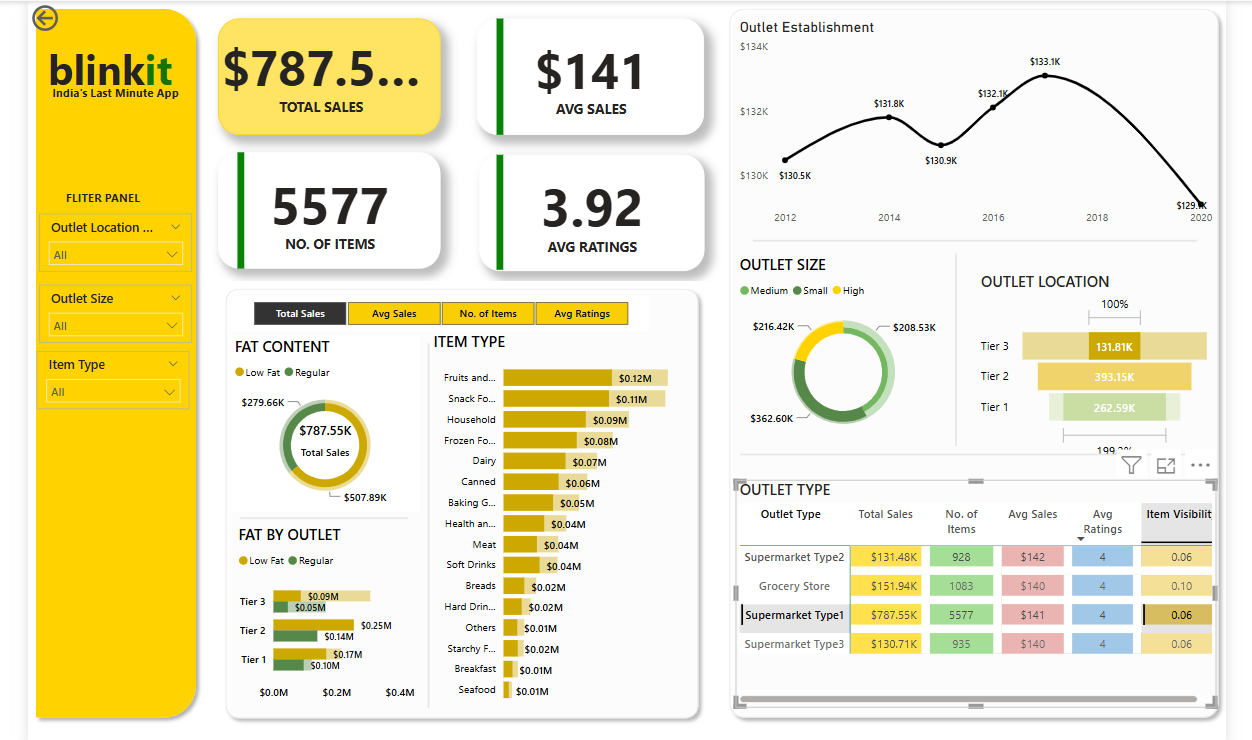

Layout of this report page (visuals, bound fields, positions):
{"tool":"powerbi","page":{"name":"Page 1","canvas":[1400,872],"ordinal":0},"visuals":[{"type":"shape","box":[0,0,205.4,846.6],"z":0},{"type":"textbox","box":[0,40.5,191.9,84],"z":1000},{"type":"textbox","box":[13.5,93,178.5,31.5],"z":2000},{"type":"card","title":"Total Sales","fields":{"Values":["BlinkIT Grocery Data.Total Sales"]},"box":[221.6,20.7,260,135.9],"z":3000},{"type":"actionButton","box":[0,0,100,40],"z":4000},{"type":"card","title":"Avg Sales","fields":{"Values":["BlinkIT Grocery Data.Avg Sales"]},"box":[524.5,20.7,265.9,135.9],"z":5000},{"type":"card","title":"Avg Ratings","fields":{"Values":["BlinkIT Grocery Data.Avg Ratings"]},"box":[527.4,180.2,263,135.9],"z":6000},{"type":"textbox","box":[500,400,161,375],"z":7000},{"type":"card","title":"No. of Items","fields":{"Values":["BlinkIT Grocery Data.No. of Items"]},"box":[221.6,177.3,260,135.9],"z":8000},{"type":"shape","box":[542.2,20.7,19.2,135.9],"z":9000},{"type":"shape","box":[534.8,180.2,34,135.9],"z":10000},{"type":"shape","box":[214.2,177.3,68,135.9],"z":11000},{"type":"shape","box":[221.6,326.5,570.3,520.1],"z":12000},{"type":"donutChart","title":"FAT CONTENT","fields":{"Y":["BlinkIT Grocery Data.Total Sales"],"Category":["BlinkIT Grocery Data.Item Fat Content"]},"box":[236.4,391.5,221.6,205.4],"z":13000},{"type":"slicer","fields":{"Values":["Metrics.Metrics"]},"box":[238.4,344.9,487.4,40.5],"z":14000},{"type":"card","title":"Total Sales","fields":{"Values":["BlinkIT Grocery Data.Total Sales"]},"box":[302.9,483.1,90.1,57.6],"z":15000},{"type":"clusteredBarChart","title":"FAT BY OUTLET","fields":{"Y":["BlinkIT Grocery Data.Total Sales"],"Category":["BlinkIT Grocery Data.Outlet Location Type"],"Series":["BlinkIT Grocery Data.Item Fat Content"]},"box":[240.8,611.7,221.6,214.2],"z":16000},{"type":"shape","box":[248.9,587.8,196.4,34.5],"z":17000},{"type":"shape","box":[442.4,400.4,51,425.9],"z":18000},{"type":"barChart","title":"ITEM TYPE","fields":{"Y":["BlinkIT Grocery Data.Total Sales"],"Category":["BlinkIT Grocery Data.Item Type"]},"box":[469.4,385.4,307.4,443.9],"z":19000},{"type":"shape","box":[811.1,0,589.5,846.6],"z":20000},{"type":"lineChart","title":"Outlet Establishment","fields":{"Y":["BlinkIT Grocery Data.Total Sales"],"Category":["BlinkIT Grocery Data.Outlet Establishment Year"]},"box":[827.4,20.7,561.4,251.2],"z":21000},{"type":"shape","box":[847.3,262.4,520.4,34.5],"z":22000},{"type":"donutChart","title":"OUTLET SIZE","fields":{"Category":["BlinkIT Grocery Data.Outlet Size"],"Y":["BlinkIT Grocery Data.Total Sales"]},"box":[827.4,297,252.6,224.6],"z":23000},{"type":"shape","box":[1058.7,295.4,51,224.9],"z":24000},{"type":"funnel","title":"OUTLET LOCATION","fields":{"Y":["Sum(BlinkIT Grocery Data.Sales)"],"Category":["BlinkIT Grocery Data.Outlet Location Type"]},"box":[1108.1,316.2,279.2,224.6],"z":25000},{"type":"shape","box":[832.3,512.9,535.4,34.5],"z":26000},{"type":"pivotTable","title":"OUTLET TYPE","fields":{"Rows":["BlinkIT Grocery Data.Outlet Type"],"Values":["BlinkIT Grocery Data.Total Sales","BlinkIT Grocery Data.No. of Items","BlinkIT Grocery Data.Avg Sales","BlinkIT Grocery Data.Avg Ratings","Avg(BlinkIT Grocery Data.Item Visibility)"]},"box":[827.4,559.9,561.4,265.9],"z":27000},{"type":"slicer","fields":{"Values":["BlinkIT Grocery Data.Outlet Location Type"]},"box":[13.3,248.2,178.8,68],"z":28000},{"type":"slicer","fields":{"Values":["BlinkIT Grocery Data.Outlet Size"]},"box":[13.3,330.9,178.8,68],"z":29000},{"type":"slicer","fields":{"Values":["BlinkIT Grocery Data.Item Type"]},"box":[10.3,409.2,178.8,68],"z":30000},{"type":"textbox","box":[39.9,215.7,121.1,29.5],"z":30001}]}

Visuals, with their boxes on the page's 1400x872 design canvas (x1, y1, x2, y2). These are canvas units, not pixel positions in the 1252x740 screenshot, which may show the page scaled, cropped or inside an application window:
shape: [0,0,205,847]
textbox: [0,40,192,124]
textbox: [14,93,192,124]
"Total Sales" card: [222,21,482,157]
actionButton: [0,0,100,40]
"Avg Sales" card: [524,21,790,157]
"Avg Ratings" card: [527,180,790,316]
textbox: [500,400,661,775]
"No. of Items" card: [222,177,482,313]
shape: [542,21,561,157]
shape: [535,180,569,316]
shape: [214,177,282,313]
shape: [222,326,792,847]
"FAT CONTENT" donutChart: [236,392,458,597]
slicer - Metrics.Metrics: [238,345,726,385]
"Total Sales" card: [303,483,393,541]
"FAT BY OUTLET" clusteredBarChart: [241,612,462,826]
shape: [249,588,445,622]
shape: [442,400,493,826]
"ITEM TYPE" barChart: [469,385,777,829]
shape: [811,0,1401,847]
"Outlet Establishment" lineChart: [827,21,1389,272]
shape: [847,262,1368,297]
"OUTLET SIZE" donutChart: [827,297,1080,522]
shape: [1059,295,1110,520]
"OUTLET LOCATION" funnel: [1108,316,1387,541]
shape: [832,513,1368,547]
"OUTLET TYPE" pivotTable: [827,560,1389,826]
slicer - BlinkIT Grocery Data.Outlet Location Type: [13,248,192,316]
slicer - BlinkIT Grocery Data.Outlet Size: [13,331,192,399]
slicer - BlinkIT Grocery Data.Item Type: [10,409,189,477]
textbox: [40,216,161,245]
